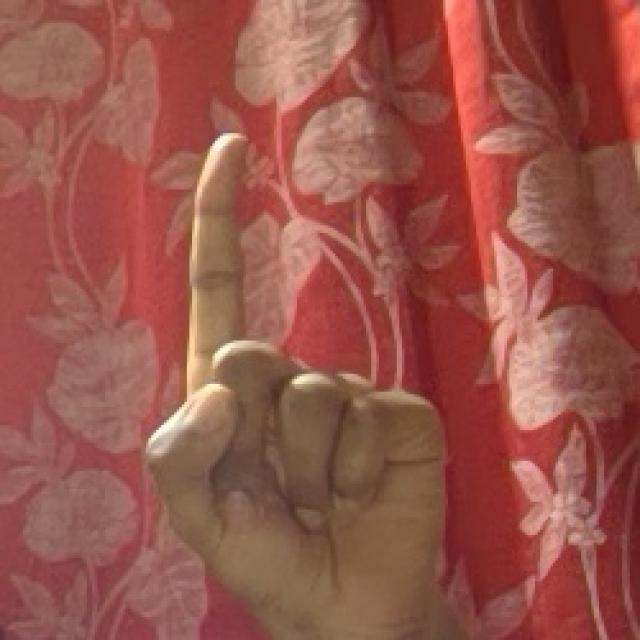Numeric-1: (146, 126, 441, 616)
